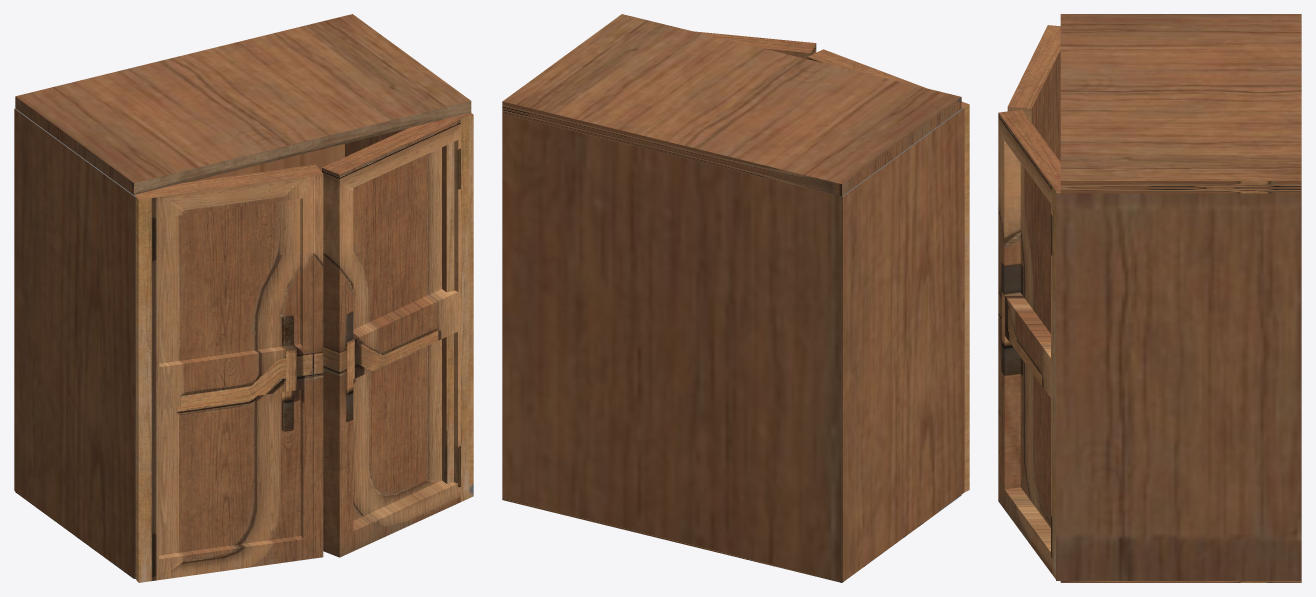
Rendered from closet.fbx.
3 renders of one model, left to right at view 1: azimuth 30°, elevation 25°; view 2: azimuth 150°, elevation 25°; view 3: azimuth 270°, elevation 25°, orthographic.
Parts seen in each view (by area): view 1: Closet, Door L, Door R; view 2: Closet, Door L, Door R; view 3: Closet, Door R, Door L.
Part boxes in pixels (bbox=[...]): Closet: bbox=[14, 14, 473, 578]; Door L: bbox=[135, 164, 323, 582]; Door R: bbox=[322, 113, 471, 557]; Closet: bbox=[502, 14, 964, 582]; Door L: bbox=[807, 49, 969, 492]; Door R: bbox=[694, 31, 816, 58]; Closet: bbox=[1056, 14, 1301, 582]; Door R: bbox=[998, 109, 1060, 578]; Door L: bbox=[1007, 25, 1060, 161].
Size of the model in its own units: 233 by 260 by 178.
